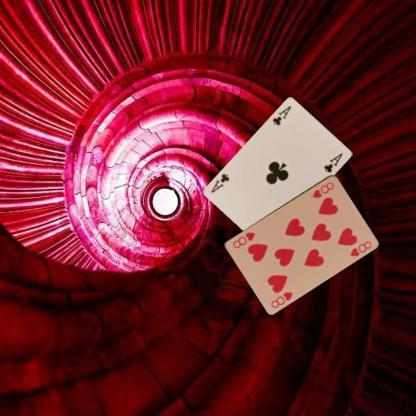8h: (310, 179, 336, 199), (268, 289, 294, 309)
Ac: (270, 104, 292, 128)
